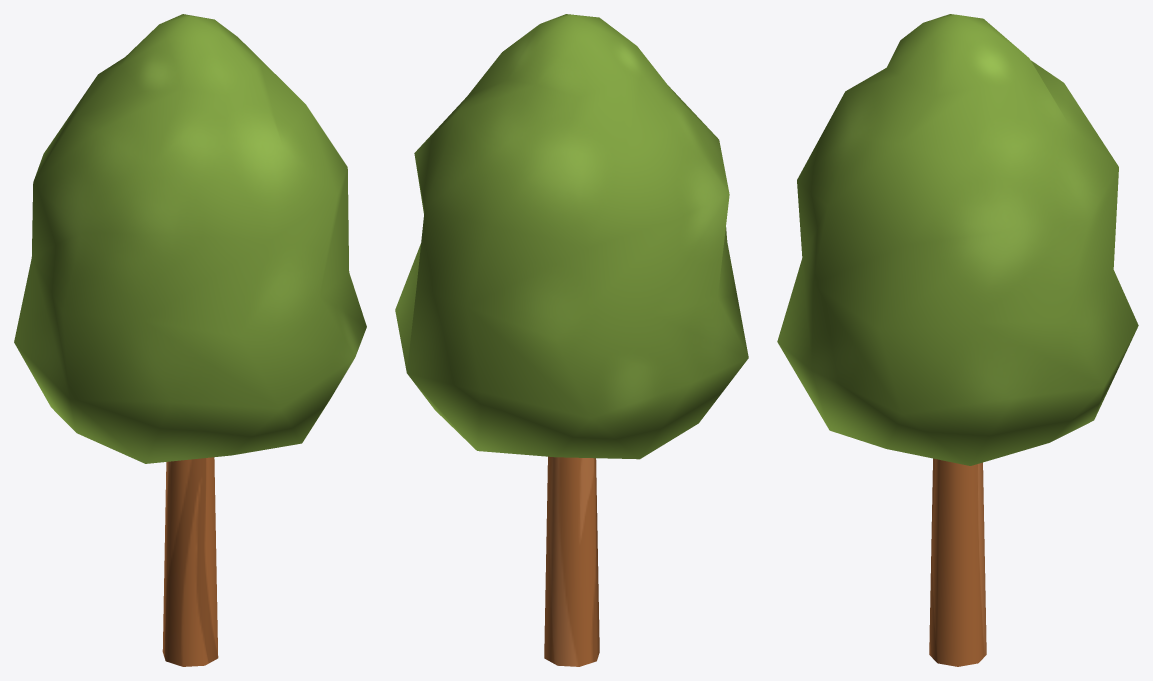
File: Arvore_3.fbx
The picture shows the model from 3 angles, left to right: view 1: azimuth 30°, elevation 25°; view 2: azimuth 150°, elevation 25°; view 3: azimuth 270°, elevation 25°; orthographic projection.
Parts seen in each view (by area): view 1: Arvore_3; view 2: Arvore_3; view 3: Arvore_3.
Boxes of the visible parts, x1,y1,x2,y2 form: Arvore_3: (14, 14, 366, 666); Arvore_3: (395, 14, 748, 666); Arvore_3: (777, 14, 1138, 666).
Size of the model in its own units: 114 by 234 by 120.
